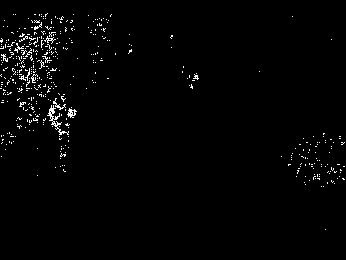person: (48, 91, 78, 175)
